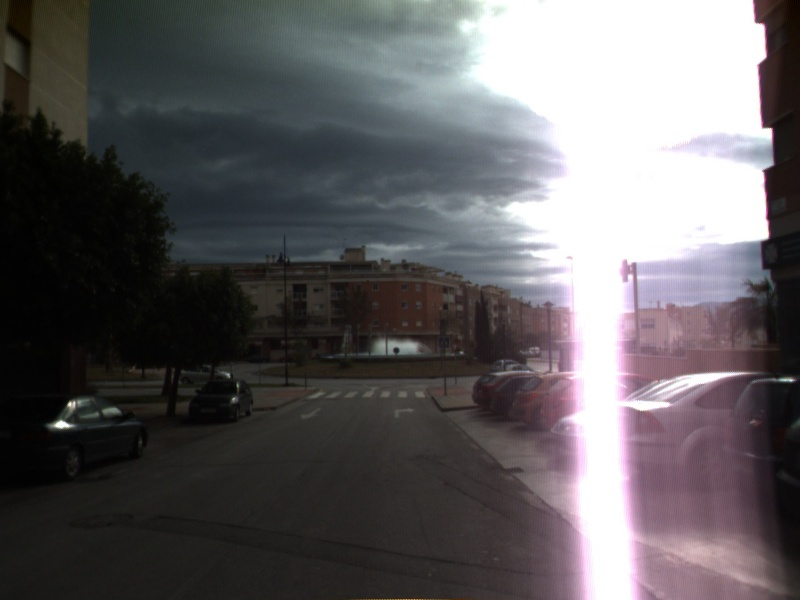RIGHT: (392, 405, 417, 420)
